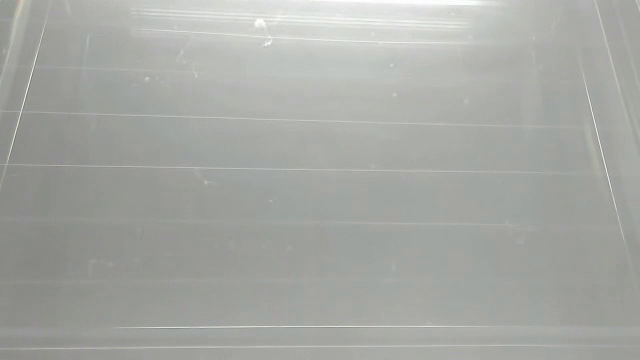alpha: (251, 18, 272, 35)
